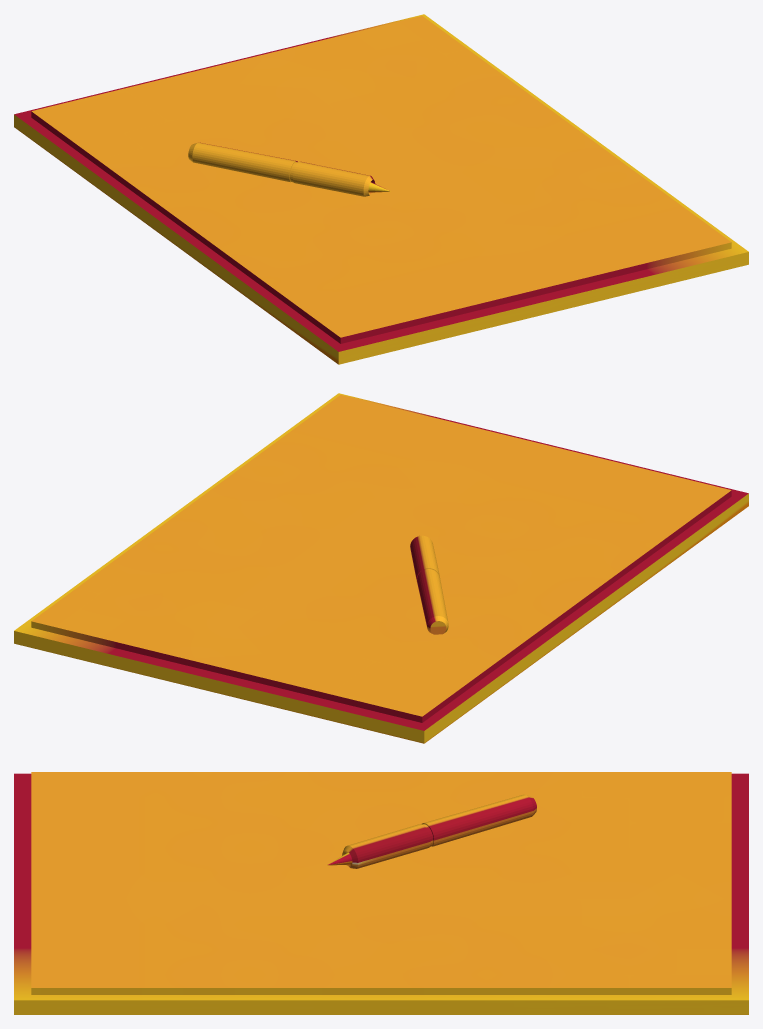
File: book my jury.fbx
The picture shows the model from 3 angles, top to bottom: view 1: azimuth 30°, elevation 25°; view 2: azimuth 150°, elevation 25°; view 3: azimuth 270°, elevation 25°; orthographic projection. The views are drawn at different scales.
Parts seen in each view (by area): view 1: Cube.001; view 2: Cube.001; view 3: Cube.001.
Boxes of the visible parts, <box> form: Cube.001: <box>14,14,748,364</box>; Cube.001: <box>14,393,748,743</box>; Cube.001: <box>14,772,748,1014</box>.
Bounding box in the file's own units: 79.55 × 6.67 × 109.
